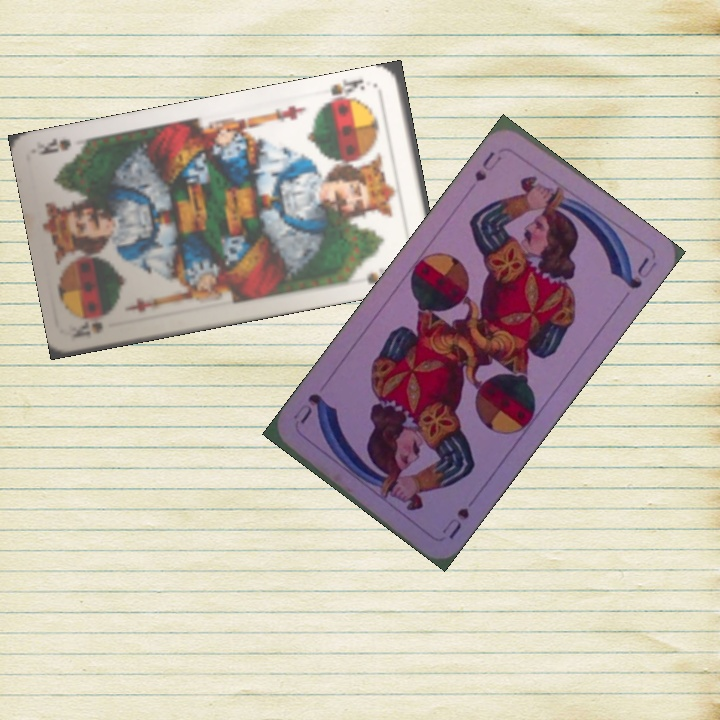SK: (322, 74, 367, 108), (70, 317, 106, 340)
SU: (437, 503, 472, 542), (470, 147, 504, 184)
